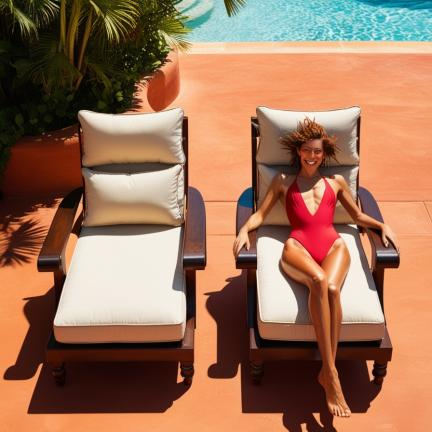empty chair: (37, 108, 206, 386)
guest on chair: (235, 106, 400, 416)
